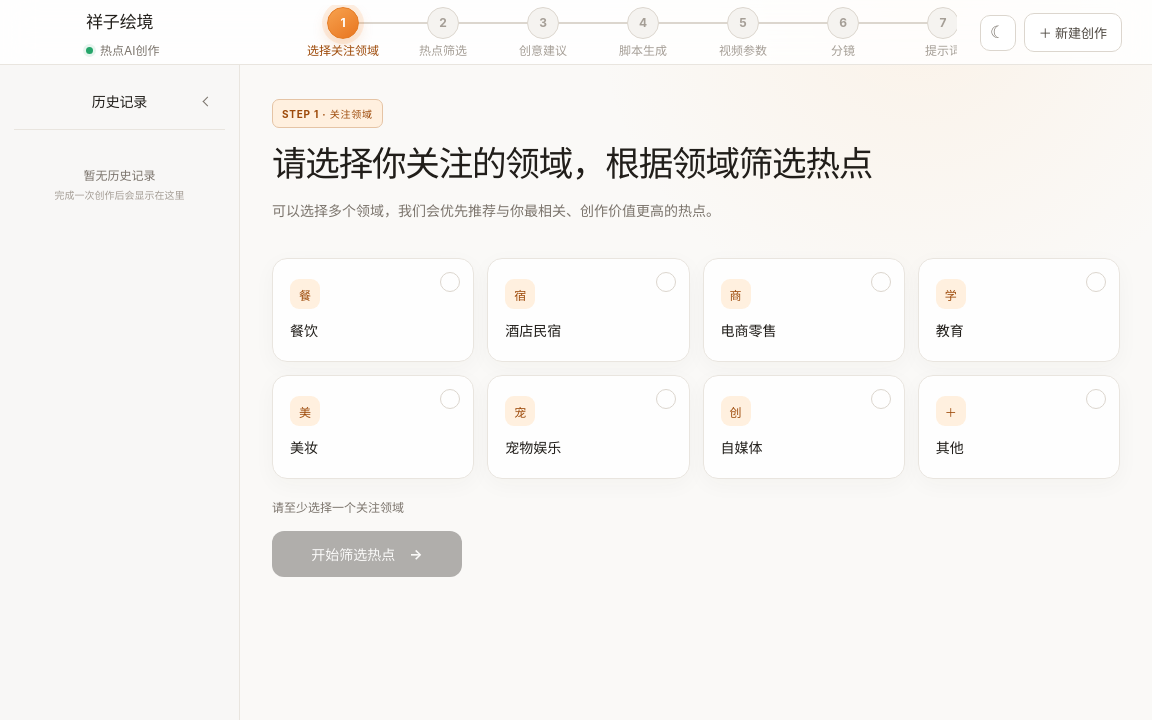
Scenario: Step2 推荐原因降级 › 只有 ranking 本身失败时才显示 AI 筛选失败
The width and height of the screenshot is (1152, 720).
Click the button "餐 餐饮" at {"x": 373, "y": 310}, box x1=272 y1=258 x2=474 y2=362
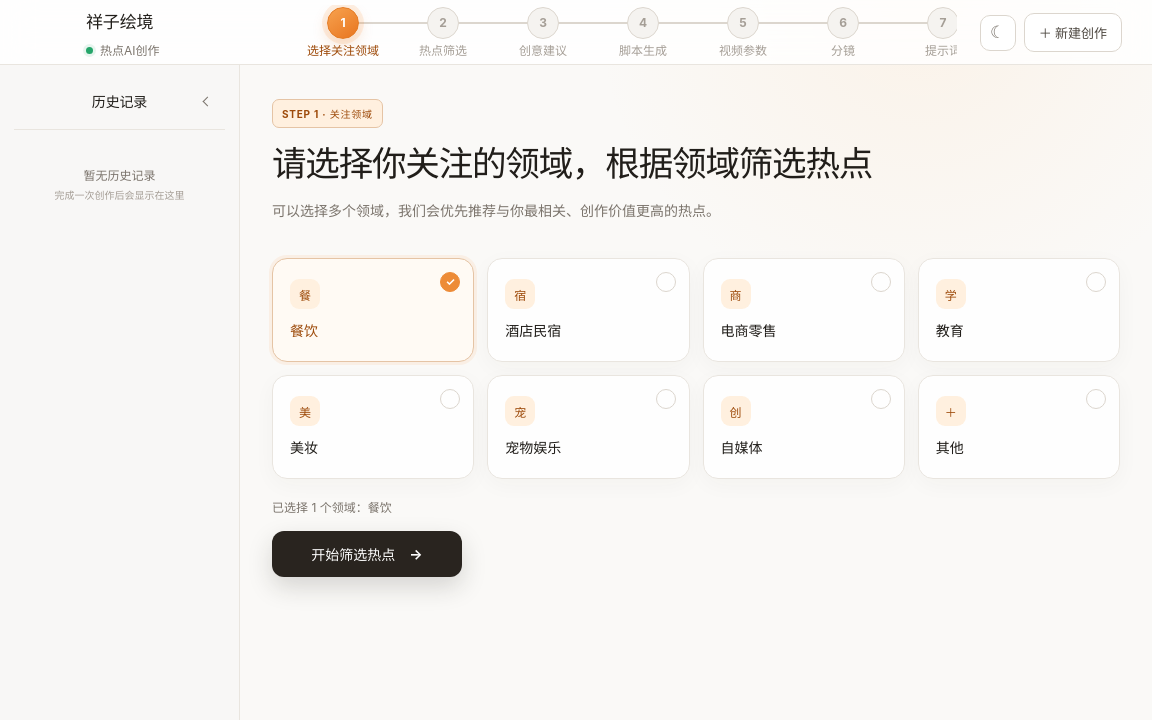
Click the button "开始筛选热点 →" at {"x": 367, "y": 554}, box x1=272 y1=531 x2=462 y2=577
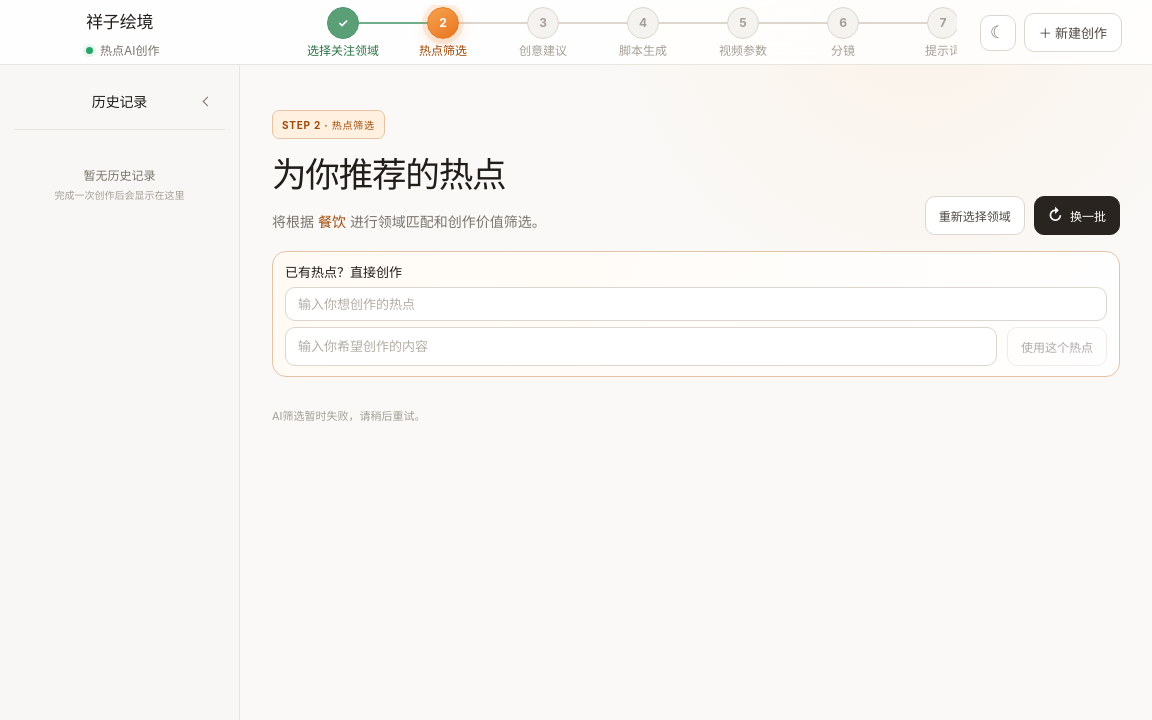
Now the message reads "AI筛选暂时失败，请稍后重试。", box x1=272 y1=409 x2=426 y2=423
